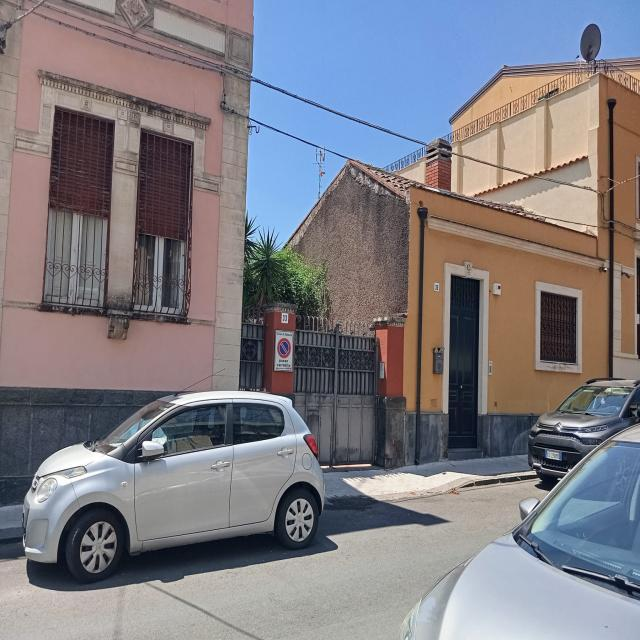forb_stopping: (277, 338, 291, 358)
